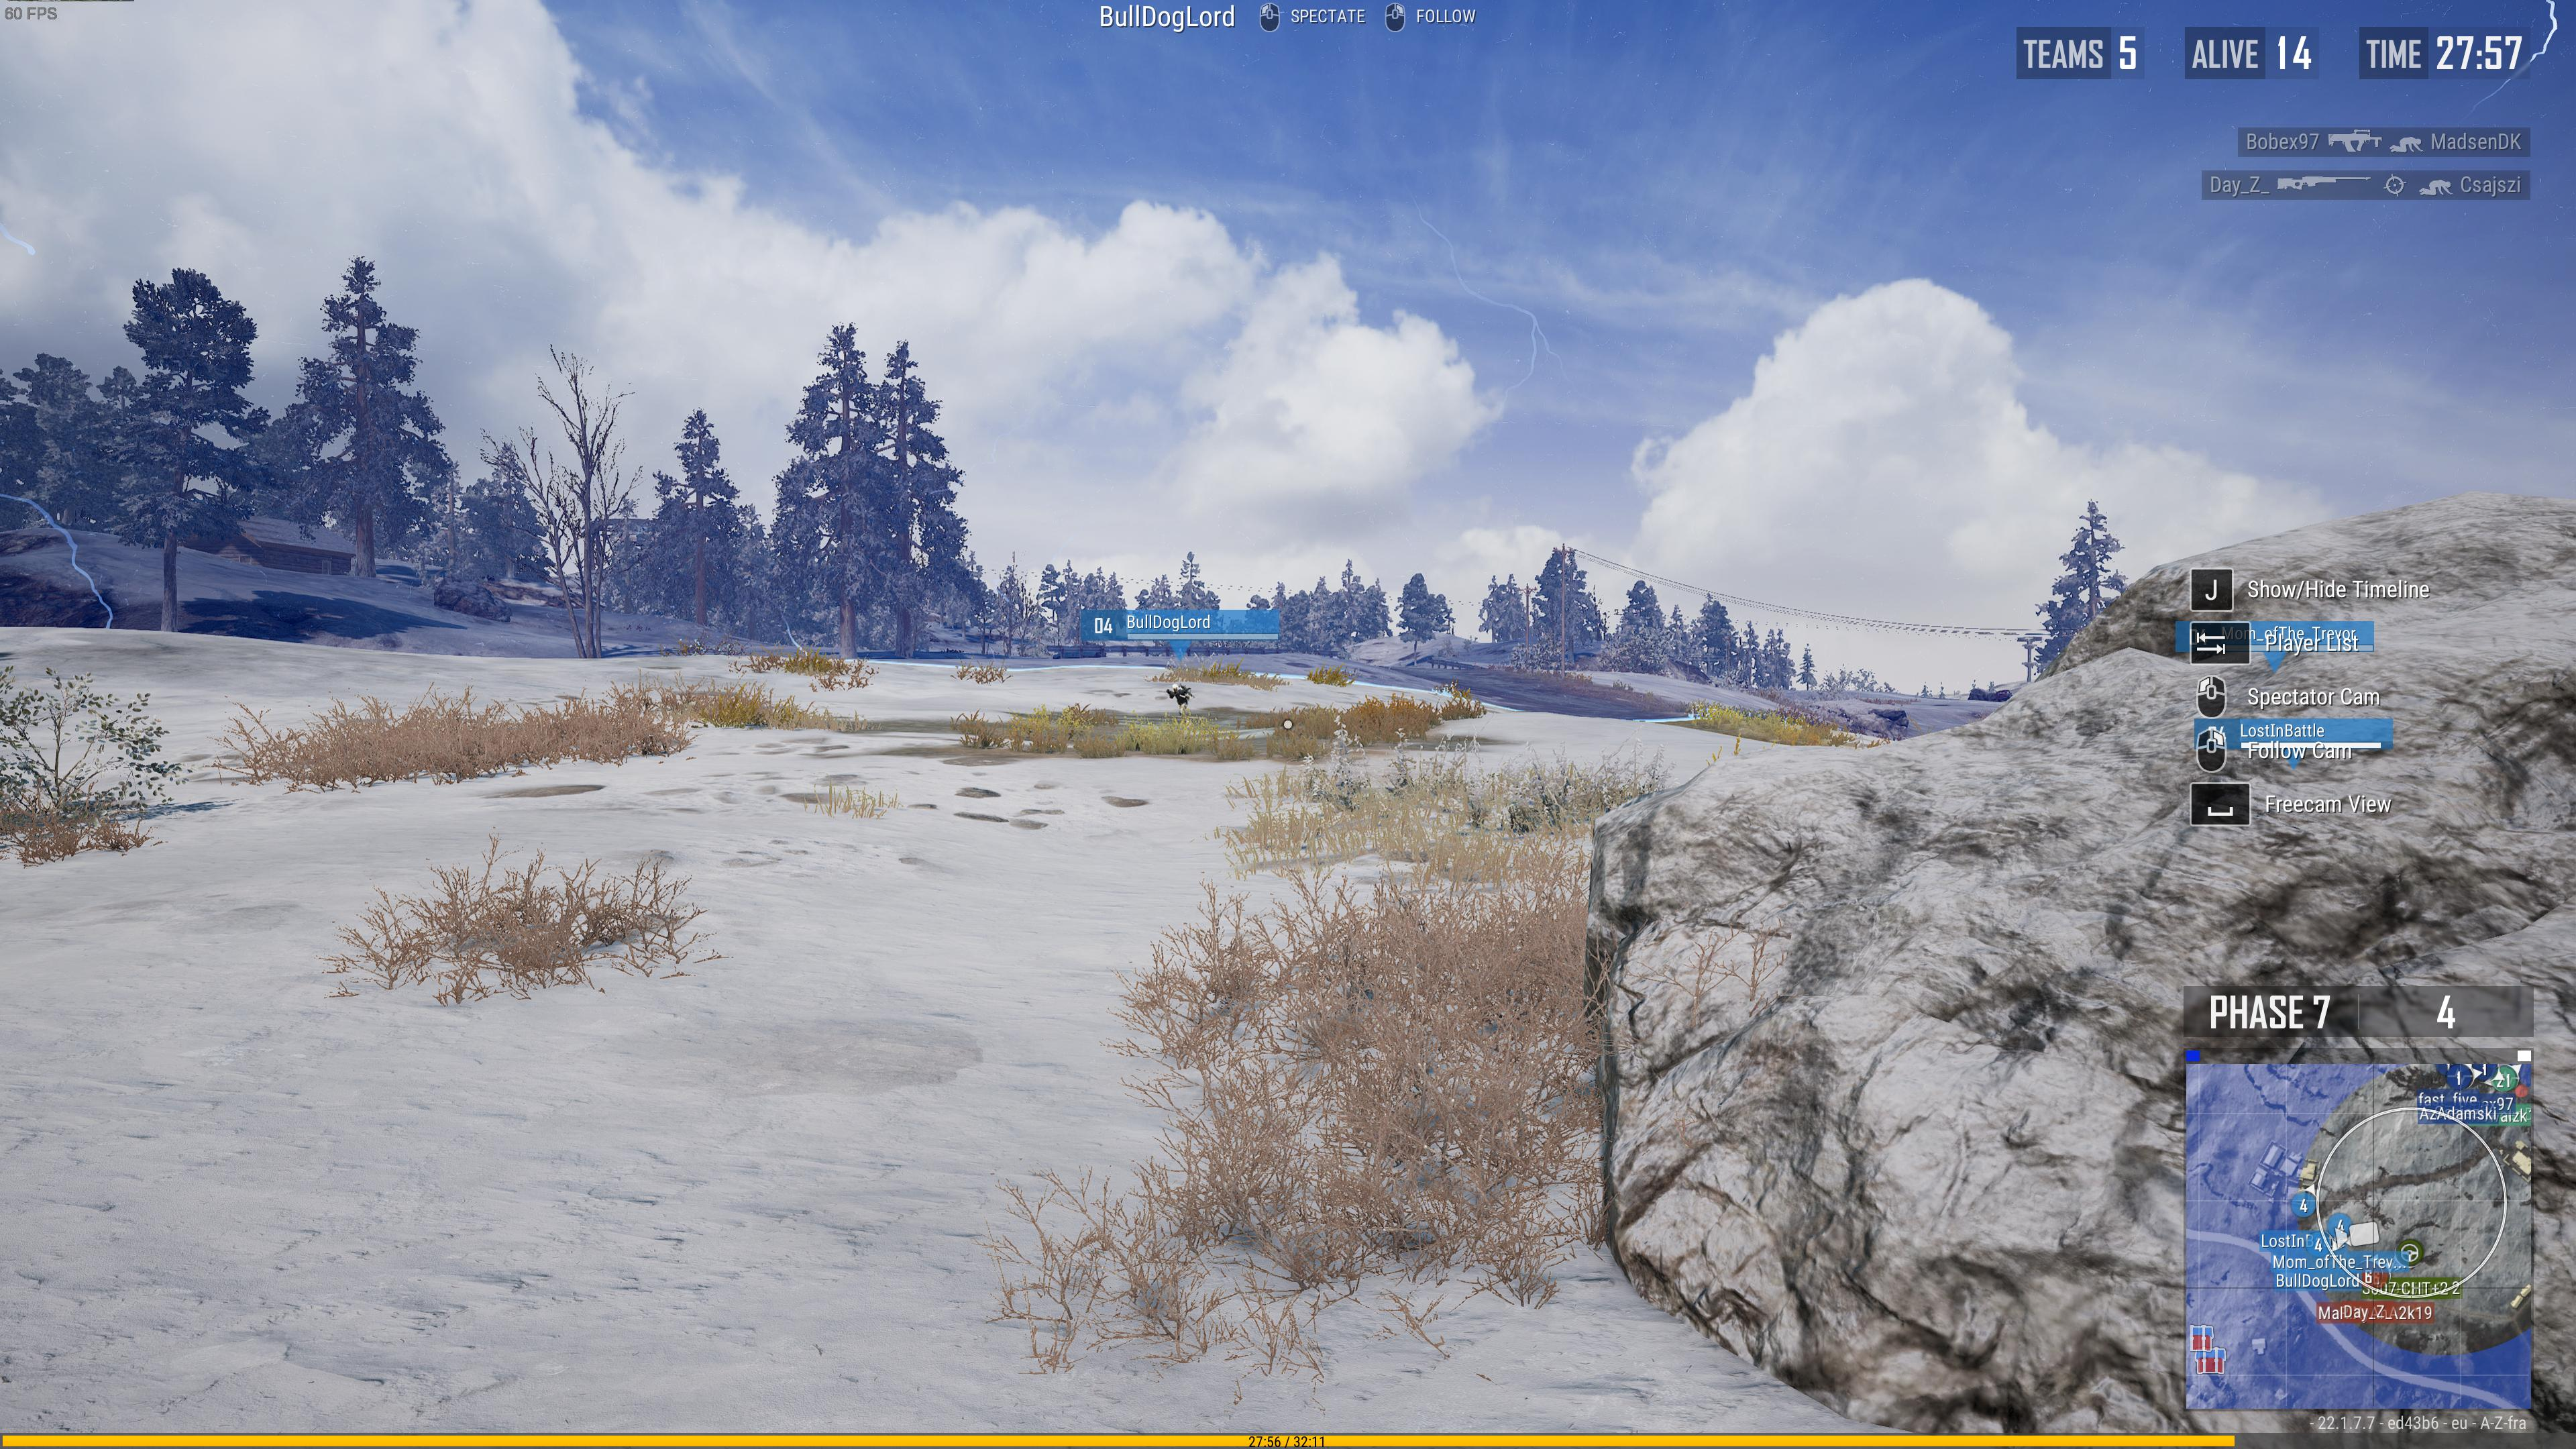enemy: (1166, 683, 1191, 720)
enemy_head: (1171, 683, 1178, 692)
